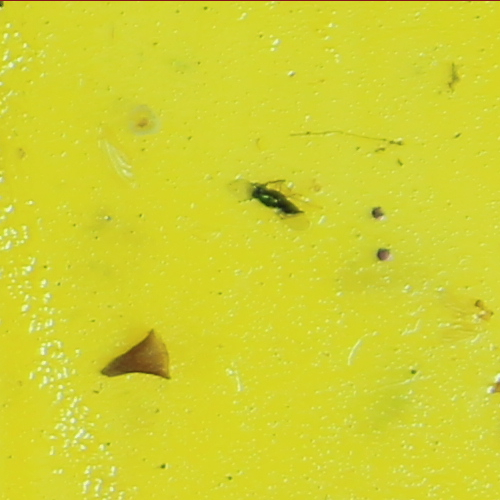wasp: (248, 184, 309, 218)
